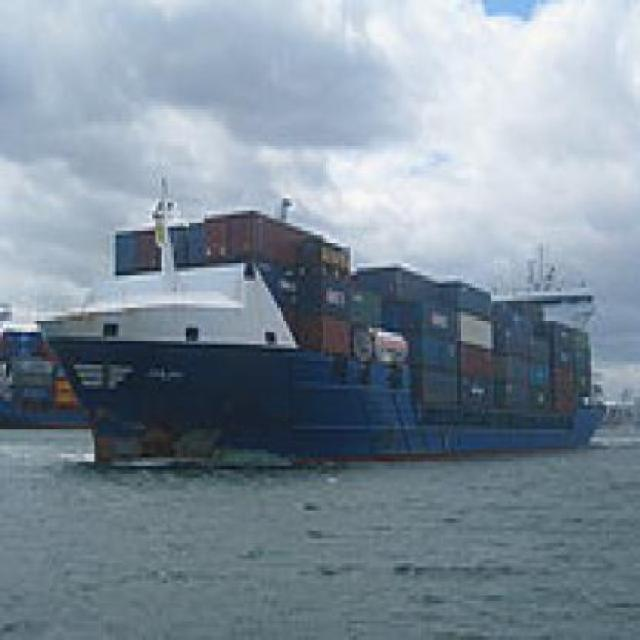container: (28, 167, 617, 480)
